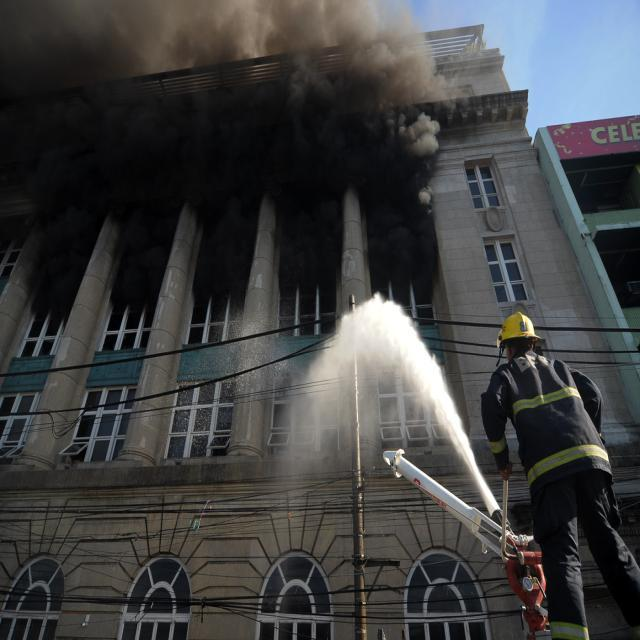Smoke: (6, 5, 418, 194)
